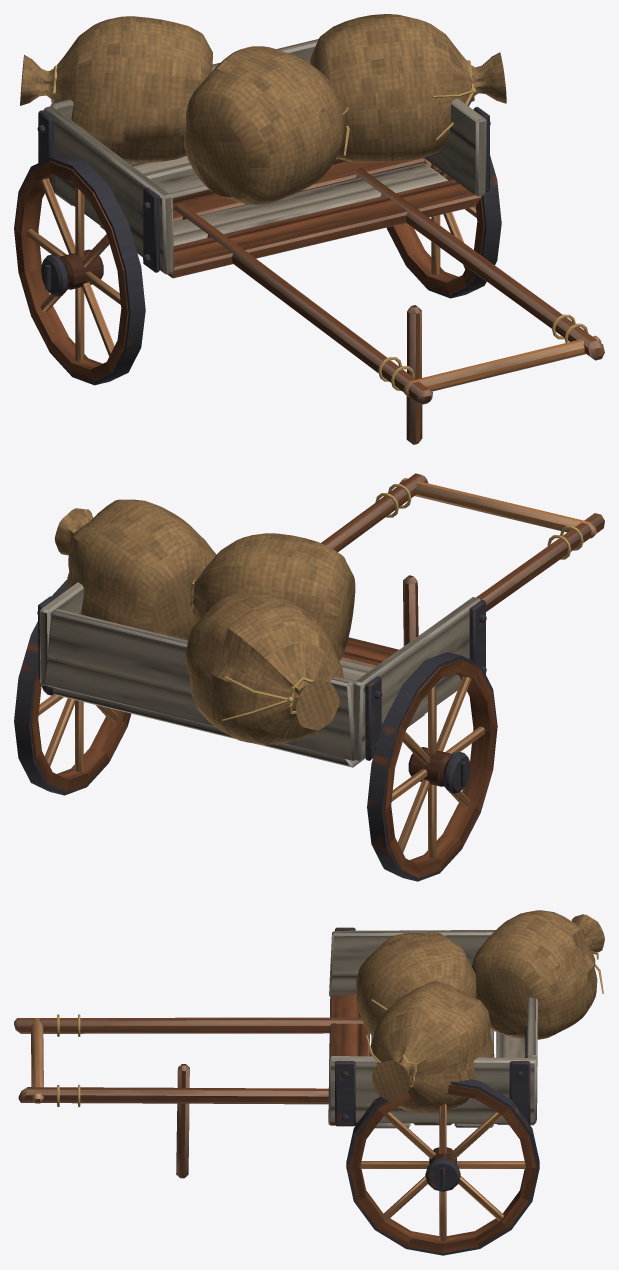
Rendered from SM_Hand_Cart.obj.
3 views of the same model, one above another, from view 1: azimuth 30°, elevation 25°; view 2: azimuth 150°, elevation 25°; view 3: azimuth 270°, elevation 25° (orthographic). The views are drawn at different scales.
Parts seen in each view (by area): view 1: SM_Hand_Cart; view 2: SM_Hand_Cart; view 3: SM_Hand_Cart.
Part boxes in pixels (<box>): SM_Hand_Cart: <box>14,14,604,444</box>; SM_Hand_Cart: <box>14,473,604,881</box>; SM_Hand_Cart: <box>14,910,604,1255</box>.
Size of the model in its own units: 2 by 1.28 by 2.84.
1 material, 1 textured.
